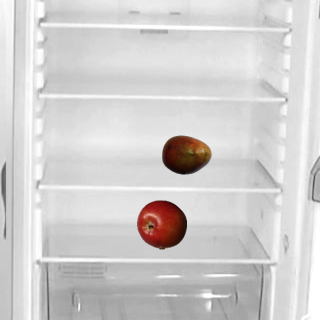Apple Braeburn: (136, 199, 186, 249)
Mango Red: (161, 129, 211, 179)
